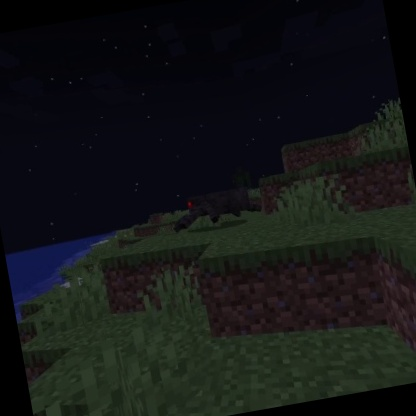spider: (164, 180, 266, 238)
